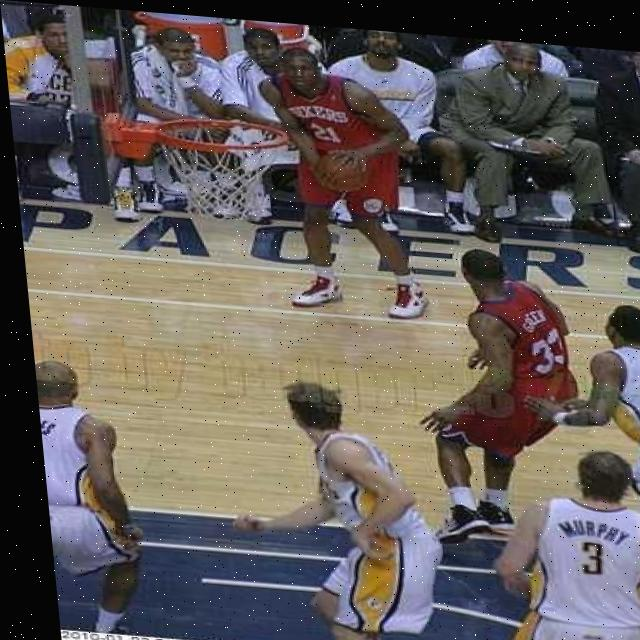basketball: (311, 146, 369, 194)
hoop: (148, 110, 302, 230)
